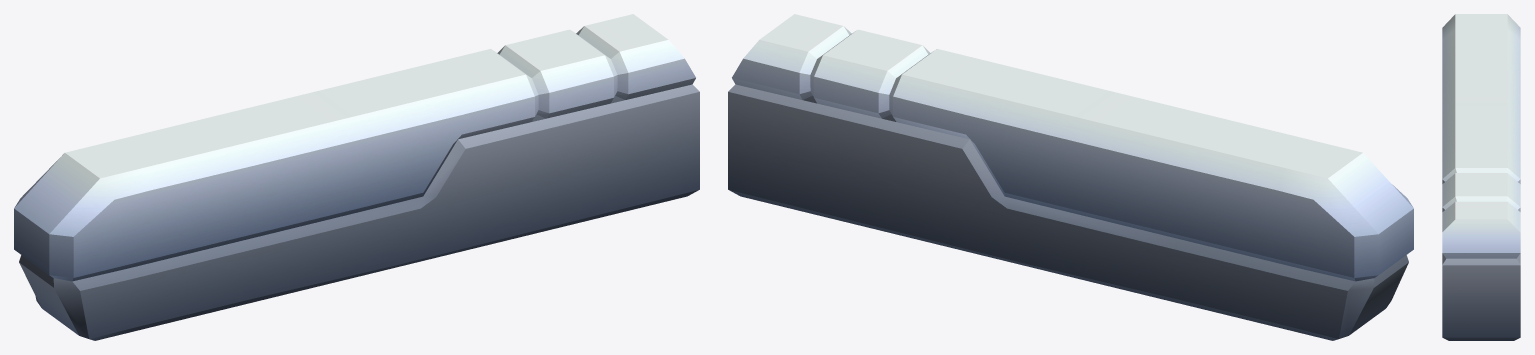
File: Body1.FBX
3 views of the same model, side by side, from view 1: azimuth 30°, elevation 25°; view 2: azimuth 150°, elevation 25°; view 3: azimuth 270°, elevation 25° (orthographic). The views are drawn at different scales.
Parts seen in each view (by area): view 1: Box001; view 2: Box001; view 3: Box001.
Part boxes in pixels (bbox=[...]): Box001: bbox=[14, 14, 699, 340]; Box001: bbox=[728, 14, 1413, 340]; Box001: bbox=[1442, 14, 1520, 340].
Size of the model in its own units: 23.1 by 5.4 by 3.3.
